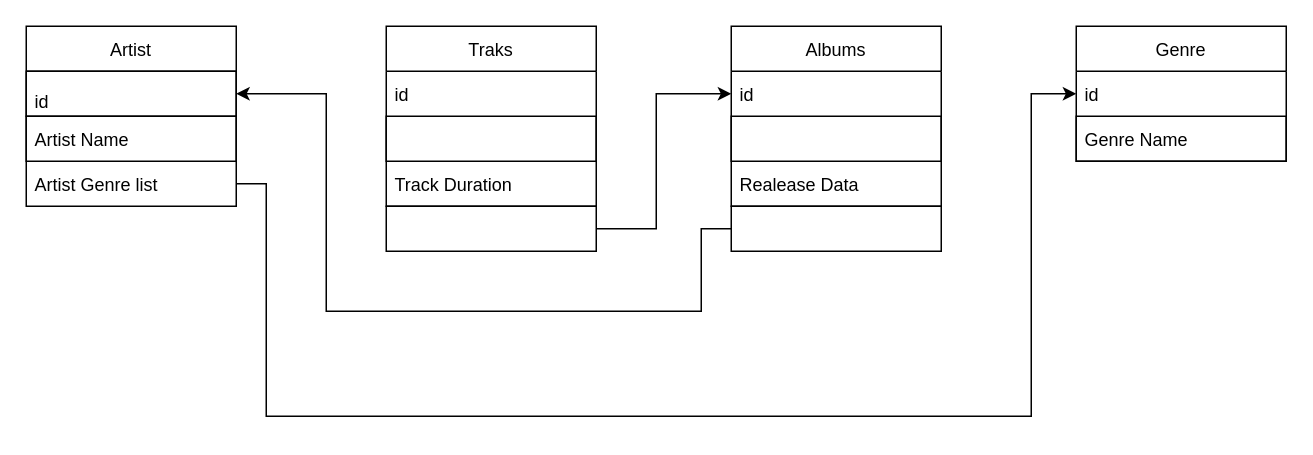
This 1313x455 diagram has some shape labels left out. Here are the shapes that lost their labels. From the top down, the centre of each, then its label:
[490,138]: Track Name
[835,138]: Album Name
[490,228]: Track list
[835,228]: Albom list
